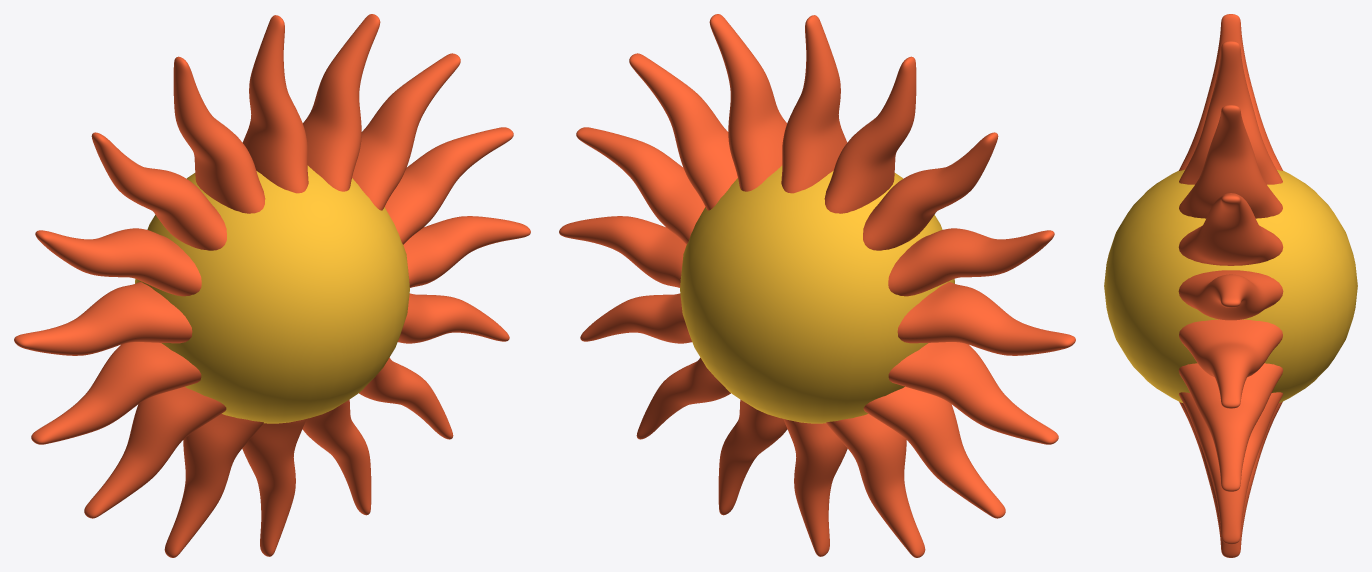
Rendered from Sun 02.glb.
3 views of the same model, side by side, from view 1: azimuth 30°, elevation 25°; view 2: azimuth 150°, elevation 25°; view 3: azimuth 270°, elevation 25° (orthographic). The views are drawn at different scales.
Parts seen in each view (by area): view 1: Sphere, Plane.021, Plane.006, Plane, Plane.011, Plane.005, Plane.024, Plane.022, Plane.001, Plane.007, Plane.020, Plane.017 (+5 smaller); view 2: Sphere, Plane.021, Plane.006, Plane, Plane.011, Plane.005, Plane.024, Plane.022, Plane.001, Plane.007, Plane.020, Plane.017 (+5 smaller); view 3: Sphere, Plane.011, Plane.018, Plane.002, Plane.001, Plane, Plane.017, Plane.003, Plane.024, Plane.019.
Part boxes in pixels (x1,y1,x2,y2): Sphere: (135,165,409,423); Plane.021: (31,342,201,444); Plane.006: (14,282,192,355); Plane: (242,15,308,193); Plane.011: (303,14,380,191); Plane.005: (84,386,226,518); Plane.024: (173,56,265,213); Plane.022: (35,228,201,296); Plane.001: (352,53,460,210); Plane.007: (91,132,226,250); Plane.020: (164,414,263,557); Plane.017: (384,127,513,244); Sphere: (680,165,954,423); Plane.021: (888,342,1058,444); Plane.006: (897,282,1075,355); Plane: (781,15,847,193); Plane.011: (709,14,786,191); Plane.005: (863,386,1005,518); Plane.024: (824,56,916,213); Plane.022: (888,228,1054,296); Plane.001: (629,53,737,210); Plane.007: (863,132,998,250); Plane.020: (826,414,925,557); Plane.017: (576,127,705,244); Sphere: (1104,169,1357,402); Plane.011: (1179,105,1282,218); Plane.018: (1178,363,1283,491); Plane.002: (1179,319,1282,408); Plane.001: (1178,193,1283,265); Plane: (1179,41,1282,184); Plane.017: (1178,270,1283,320); Plane.003: (1179,392,1282,544); Plane.024: (1179,14,1282,170); Plane.019: (1179,402,1282,557).
Size of the model in its own units: 3.09 by 3.09 by 1.44.
